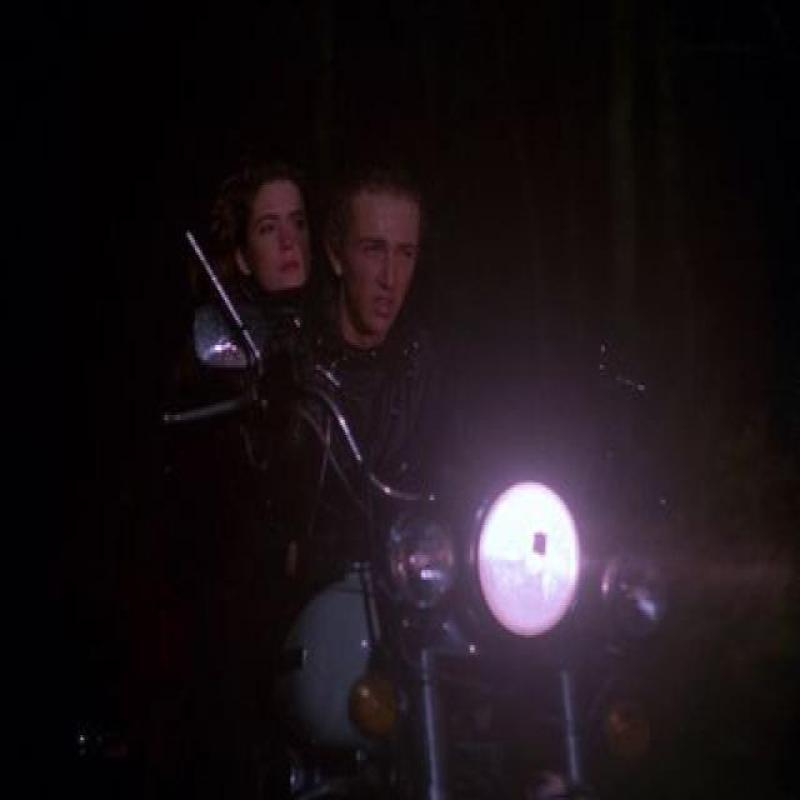nohelmet: (328, 164, 432, 336), (217, 166, 312, 285)
